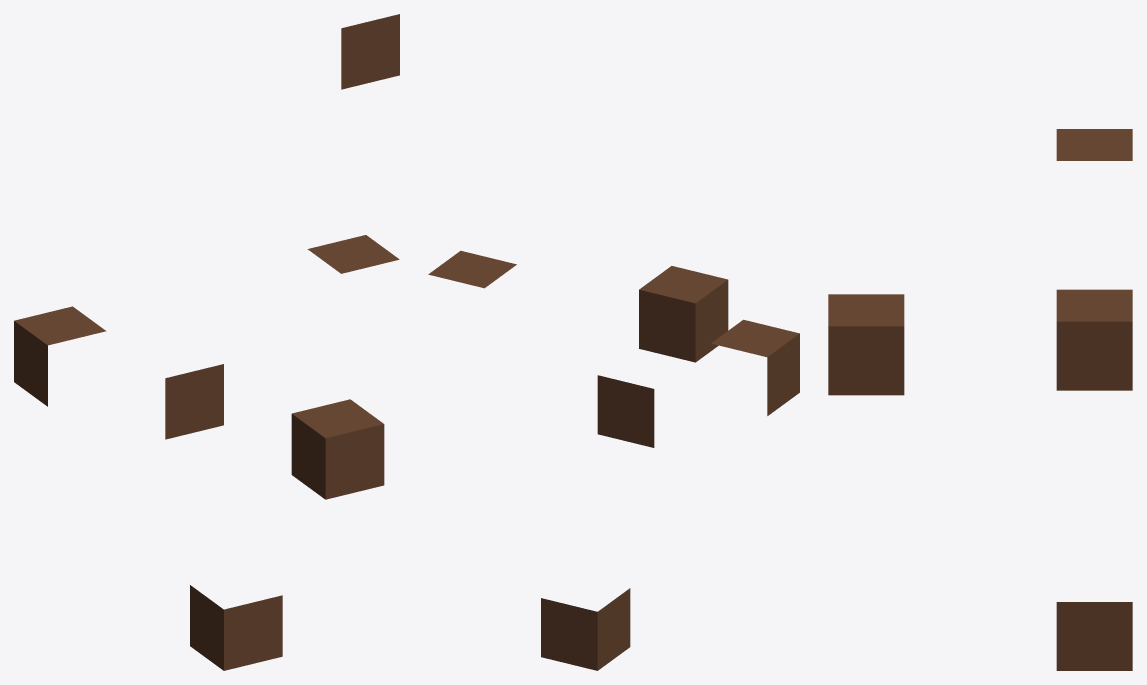
The model's file is tree-cherry-1-pink1-6b452e.gltf.
3 renders of one model, left to right at view 1: azimuth 30°, elevation 25°; view 2: azimuth 150°, elevation 25°; view 3: azimuth 270°, elevation 25°, orthographic. The views are drawn at different scales.
Visible parts, largest first — view 1: tree-cherry-1-pink1-6b452e; view 2: tree-cherry-1-pink1-6b452e; view 3: tree-cherry-1-pink1-6b452e.
Boxes of the visible parts, x1,y1,x2,y2 form: tree-cherry-1-pink1-6b452e: (14, 14, 399, 670); tree-cherry-1-pink1-6b452e: (428, 250, 799, 670); tree-cherry-1-pink1-6b452e: (828, 129, 1132, 670).
Size of the model in its own units: 6 by 10 by 4.
